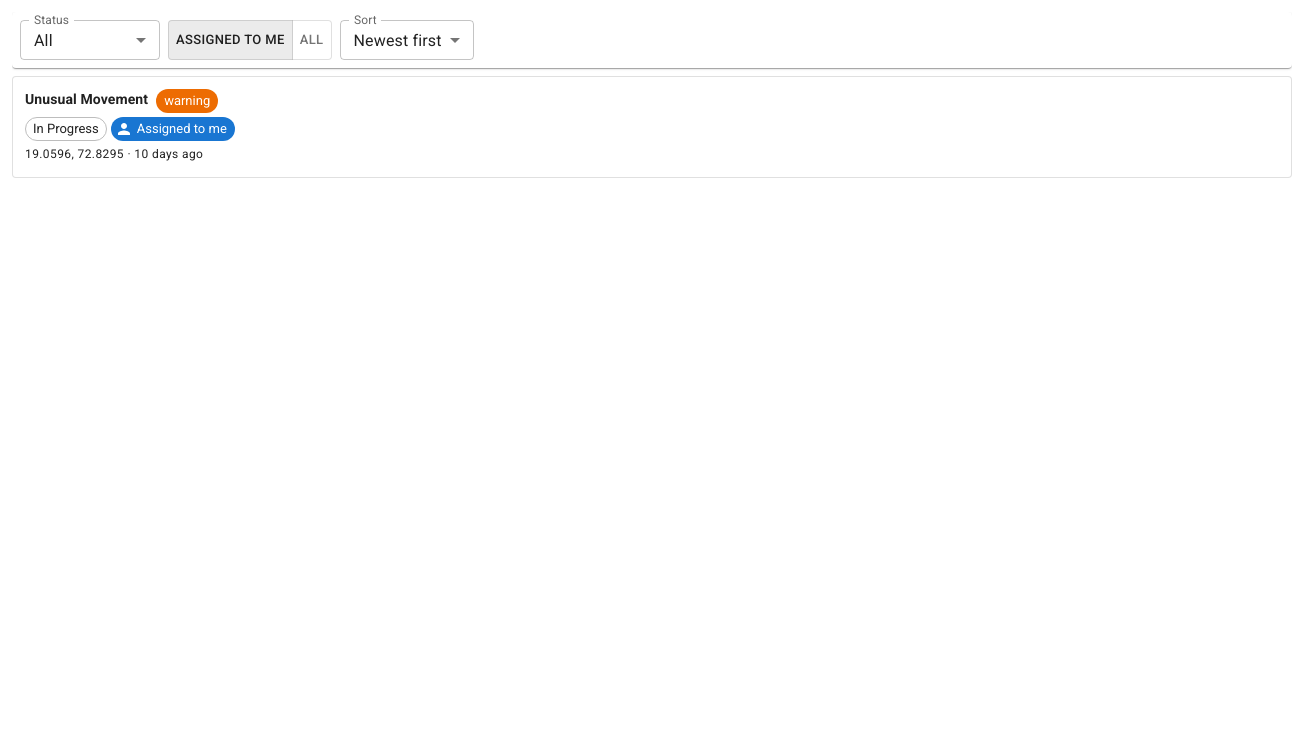
Test: IncidentList › renders cards with type, severity, status and assigned chip
This screenshot has width=1304, height=732.
Click the button "All" at (312, 40), box [292,20,332,60]
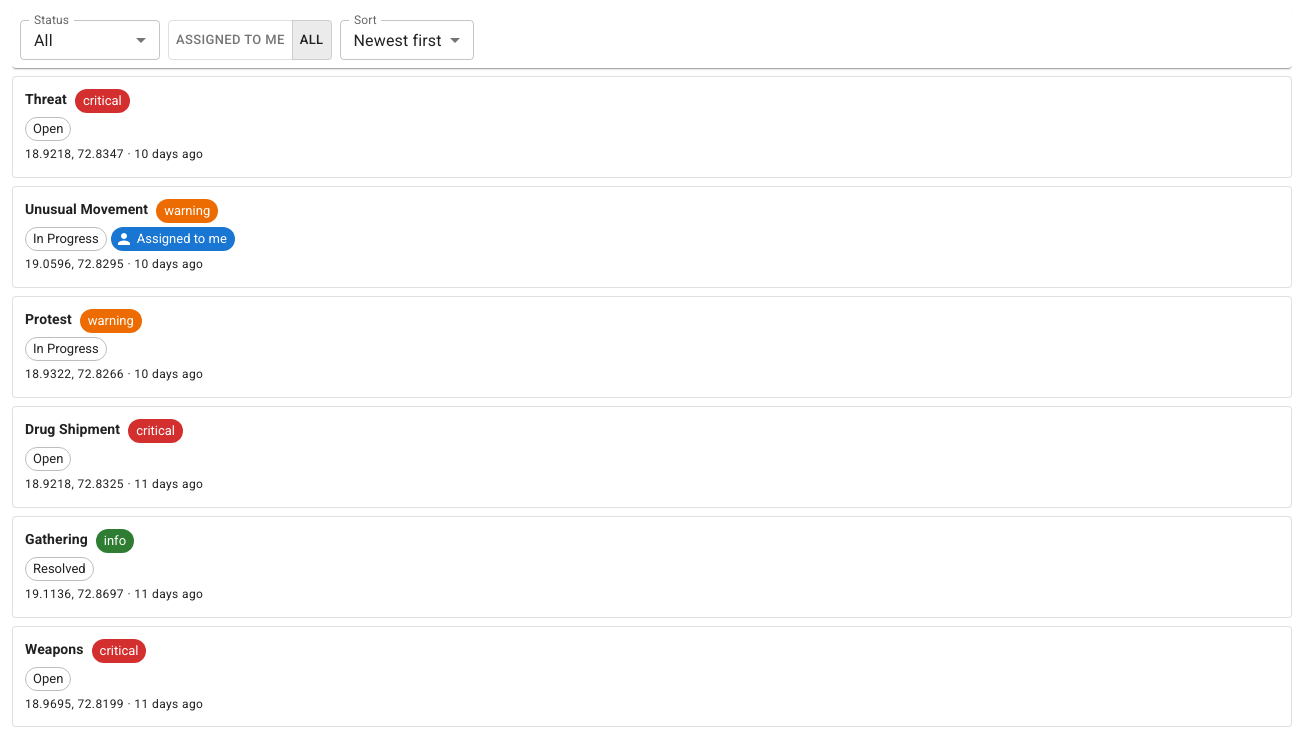
Expected: the heading "Threat" is shown, [25,89,67,113]
Expected: the heading "Protest" is shown, [25,309,72,333]
Expected: the 1st text "Open" is shown, [33,121,63,136]
